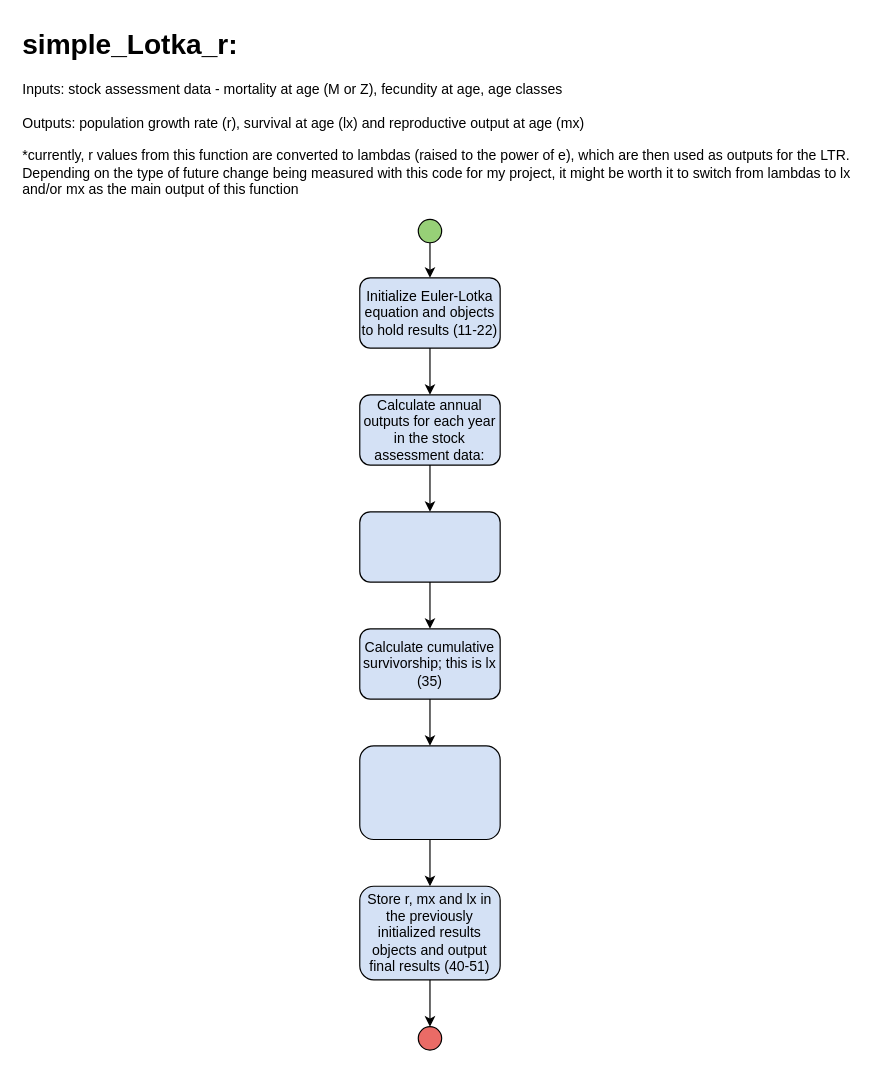
Image size: 870x1071. Some labels were removed from this diagram. Each missing label, with the centre of its shape:
"Calculate survivorship based on M inputs (29-33)" goes at [429,546].
"Input values into Euler-Lotka and calculate r via numerical minimization (38)" goes at [429,792].
